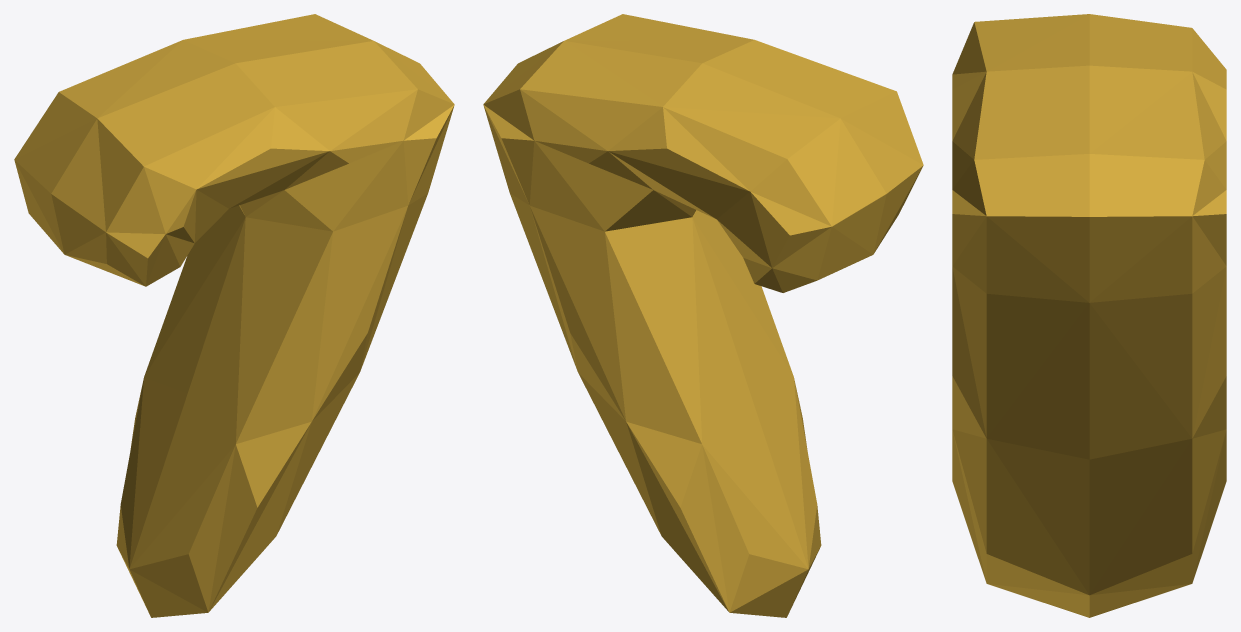
3 renders of one model, left to right at view 1: azimuth 30°, elevation 25°; view 2: azimuth 150°, elevation 25°; view 3: azimuth 270°, elevation 25°, orthographic. The views are drawn at different scales.
Parts seen in each view (by area): view 1: 7_0057D0_0; view 2: 7_0057D0_0; view 3: 7_0057D0_0.
Boxes of the visible parts, left/top/right/bottom form: 7_0057D0_0: left=14, top=14, right=454, bottom=617; 7_0057D0_0: left=483, top=14, right=923, bottom=617; 7_0057D0_0: left=952, top=14, right=1226, bottom=617.
Size of the model in its own units: 52.18 by 72.23 by 30.
